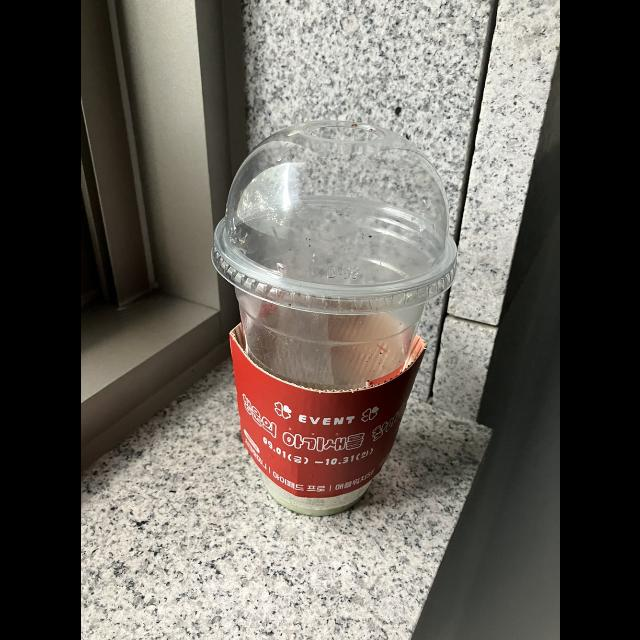plastic_cup: (208, 122, 460, 520)
plastic_cup_lid: (210, 124, 460, 312)
